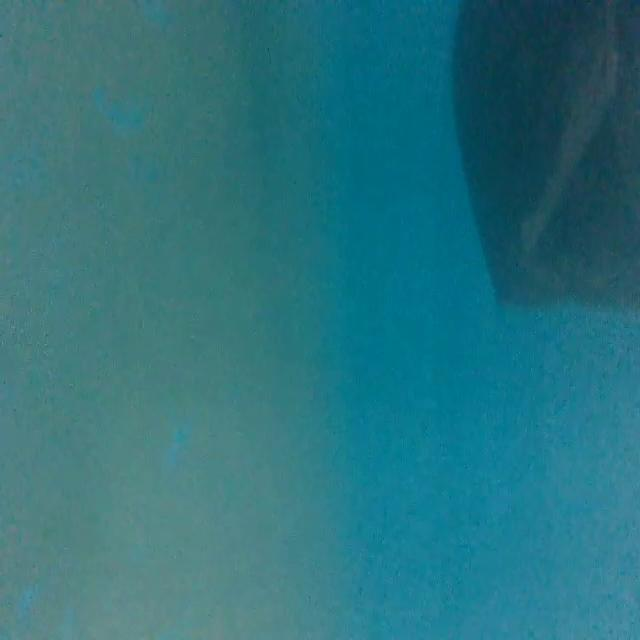plastic bags: (453, 0, 640, 320)
